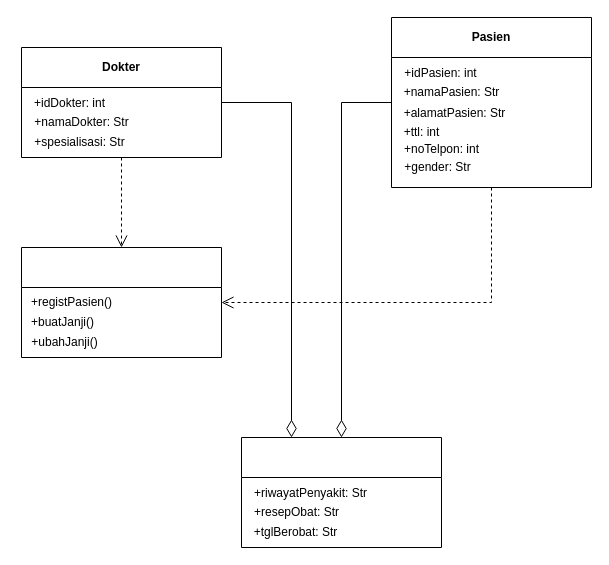
Image size: 609x565. Some labels were removed from this diagram. Here are the shapes that lost their labels. From the top down, the box of each, then its label:
(20, 246, 222, 358): <<interface>> Receptionist
(240, 436, 442, 548): MedicalReport
